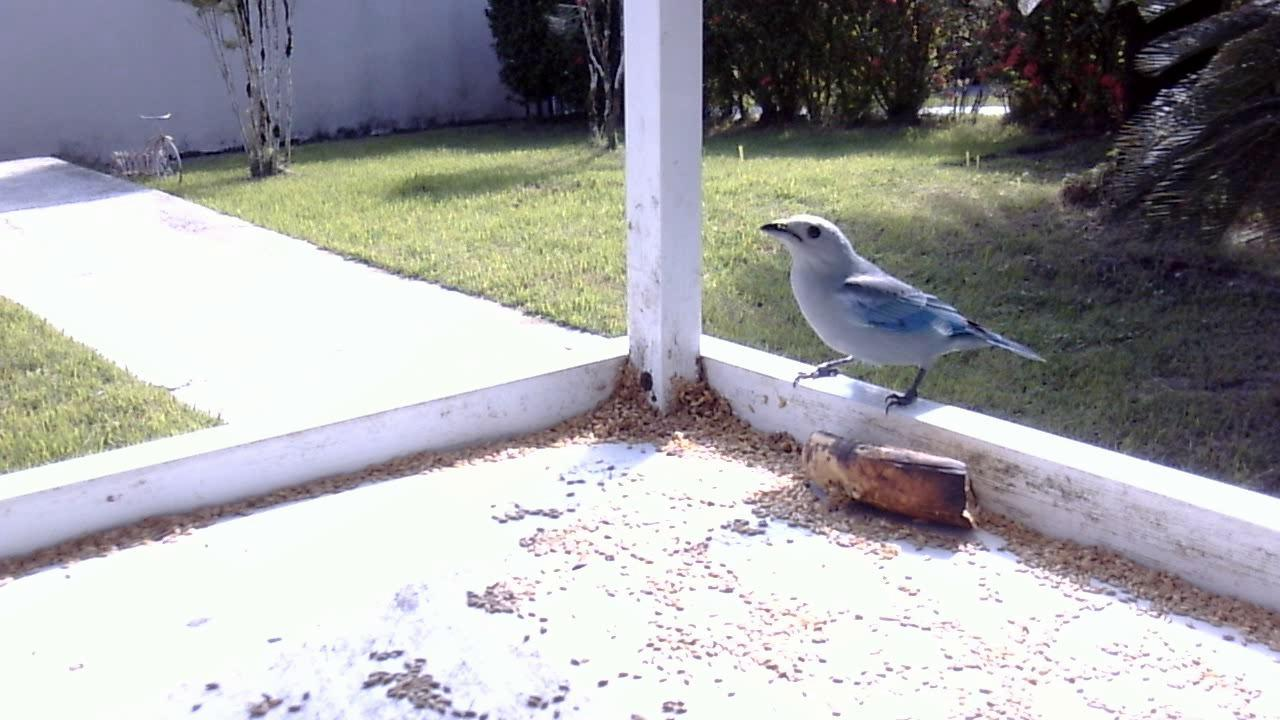sanhaco_da_amazonia: (753, 211, 1049, 420)
